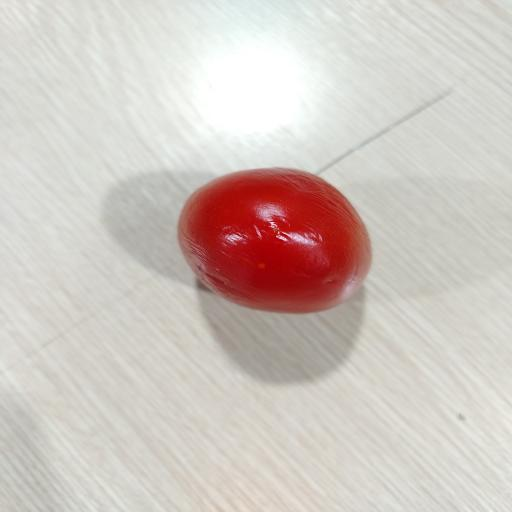overipe: (178, 168, 371, 313)
